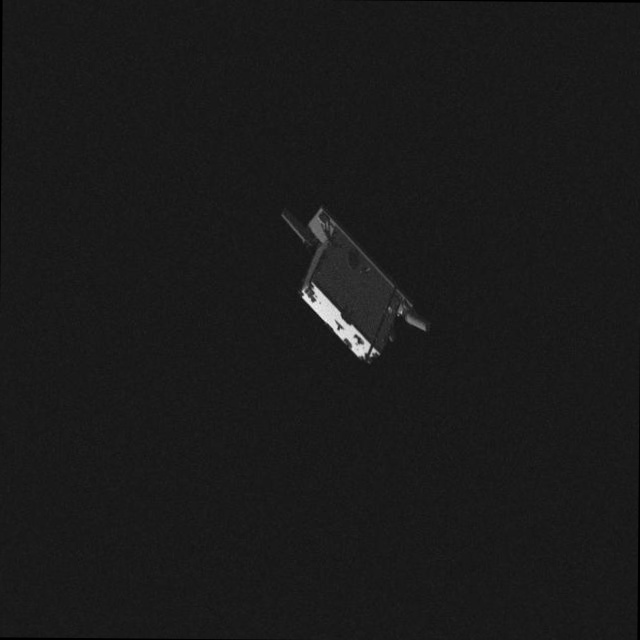medium_debris: (260, 200, 434, 362)
